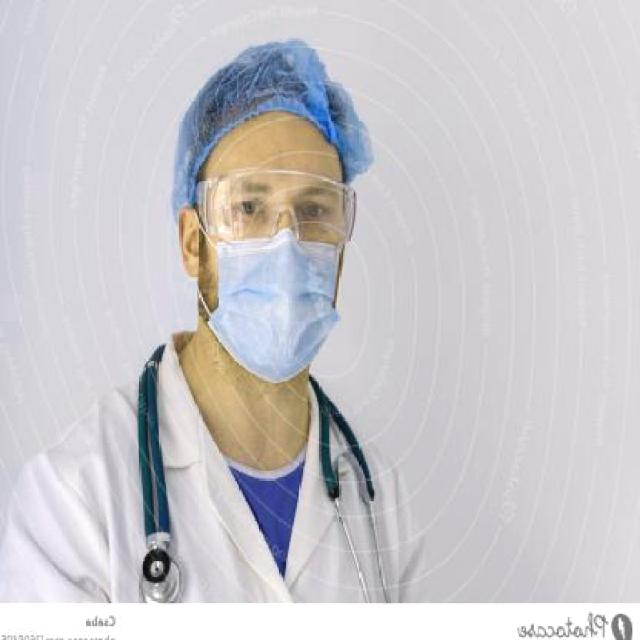face_mask: (206, 167, 352, 362)
glasses: (193, 168, 359, 255)
head_nohelmet: (161, 32, 376, 180)
person: (0, 31, 426, 603)
